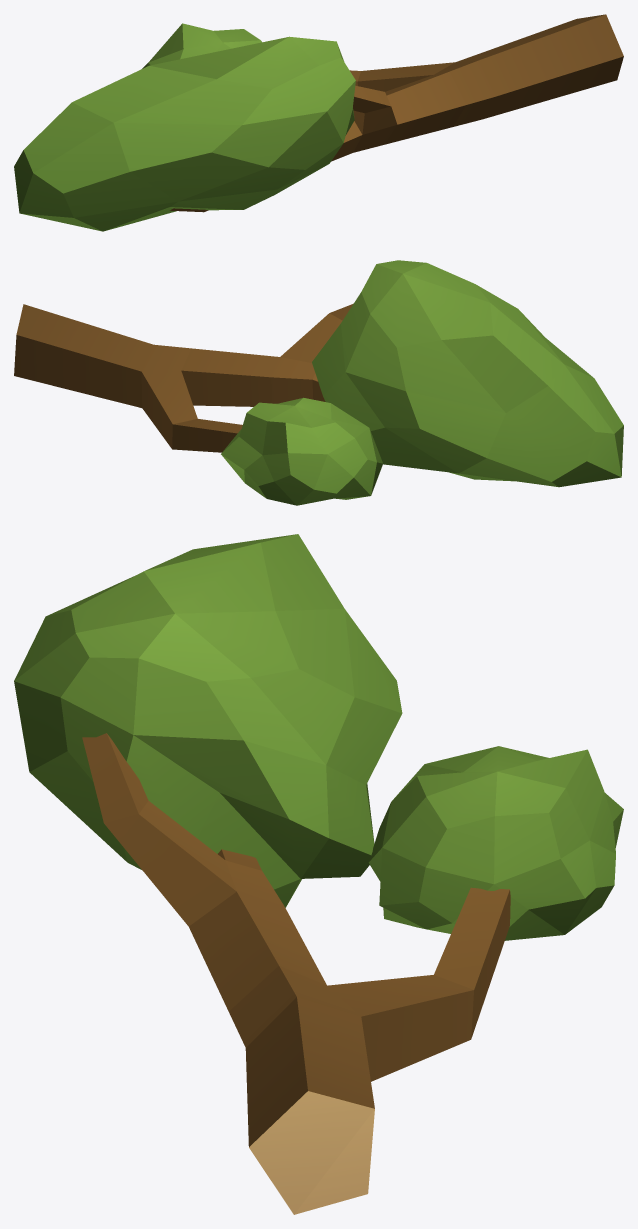
Rendered from Branch_average_leaves.fbx.
The picture shows the model from 3 angles, top to bottom: view 1: azimuth 30°, elevation 25°; view 2: azimuth 150°, elevation 25°; view 3: azimuth 270°, elevation 25°; orthographic projection. The views are drawn at different scales.
Visible parts, largest first — view 1: Branch_average_leaves; view 2: Branch_average_leaves; view 3: Branch_average_leaves.
Boxes of the visible parts, x1,y1,x2,y2 form: Branch_average_leaves: (14,14,623,231); Branch_average_leaves: (14,260,623,505); Branch_average_leaves: (14,534,623,1214).
Size of the model in its own units: 5.43 by 1.42 by 2.6.
